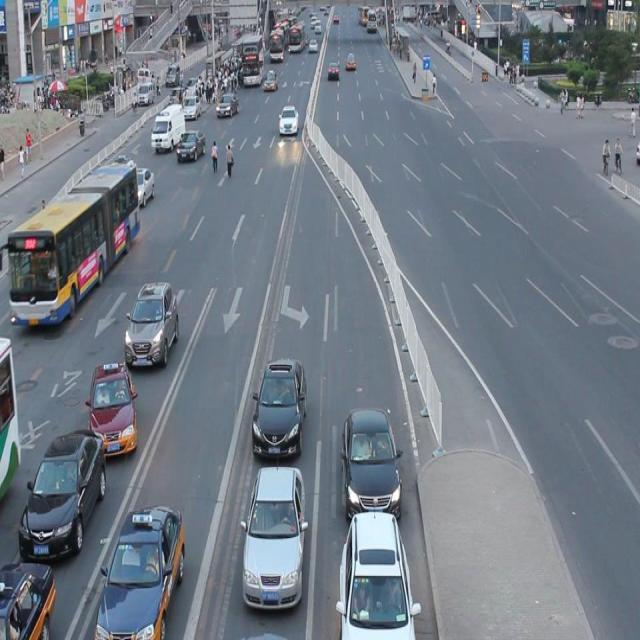BigCar: (6, 169, 136, 322)
car: (94, 490, 184, 640), (20, 419, 105, 560), (242, 468, 308, 618), (339, 399, 403, 521), (248, 355, 315, 465), (120, 265, 179, 370), (0, 552, 62, 640), (87, 357, 136, 456), (150, 100, 186, 150), (273, 97, 302, 145), (178, 129, 203, 164), (215, 92, 238, 125), (324, 58, 342, 85), (185, 96, 204, 121), (343, 50, 359, 72), (262, 69, 278, 90), (308, 36, 320, 61)
